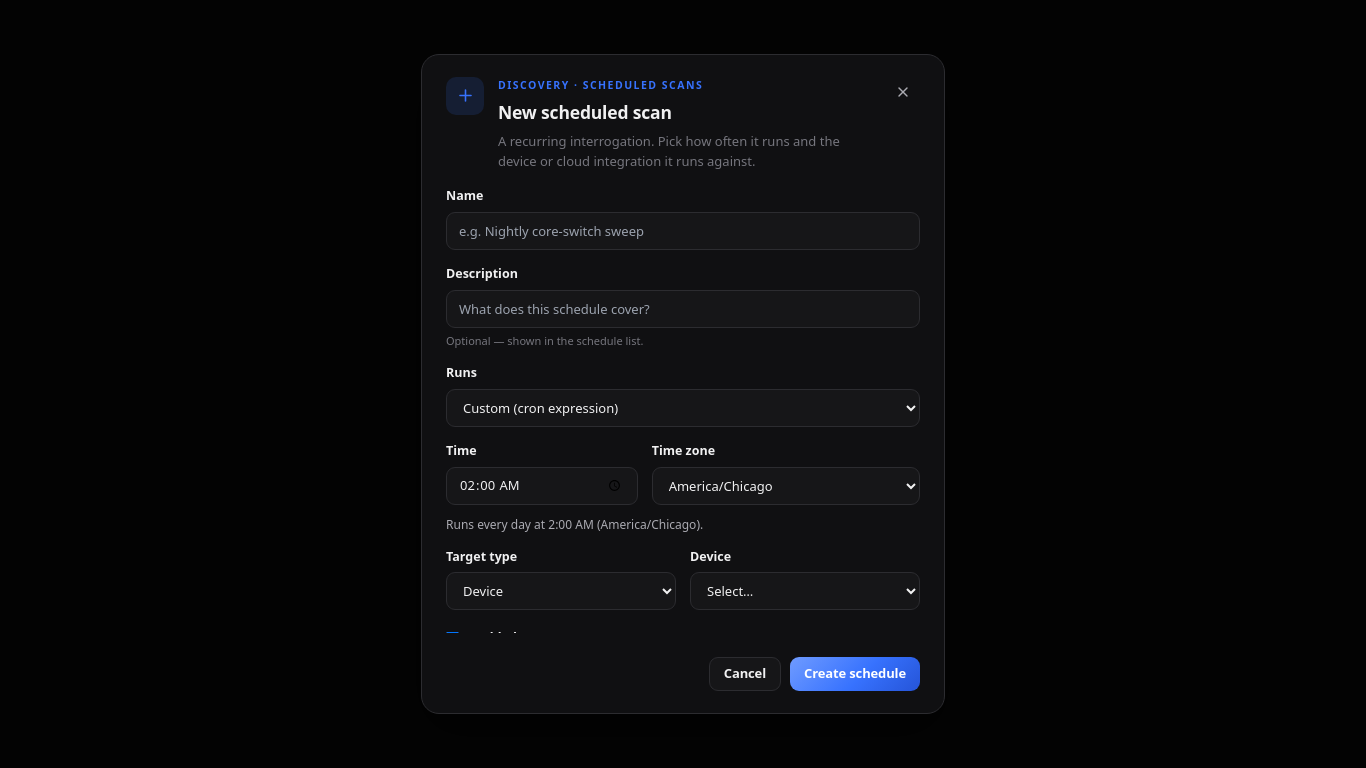
seeds Custom from the picker so a power user starts from valid cron
Expected: the label "Runs" is shown, [446,364,920,427]
Select "Custom (cron expression)" in the dropdown labelled "Runs". click: (683, 408)
box: [446,389,920,427]
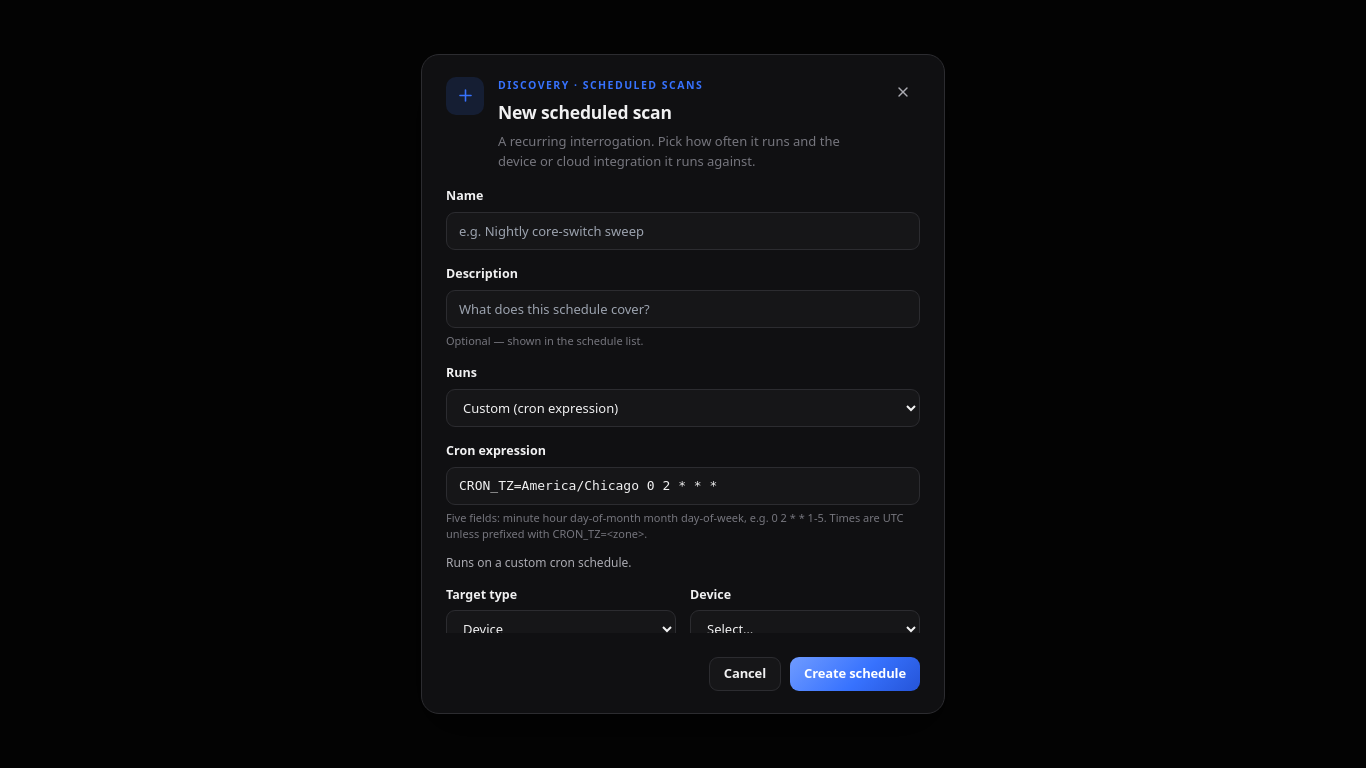
Expected: the label that starts with "Cron expression" is shown, [446,442,920,543]
Expected: the 3rd field holds "CRON_TZ=America/Chicago 0 2 * * *", [446,466,920,504]
